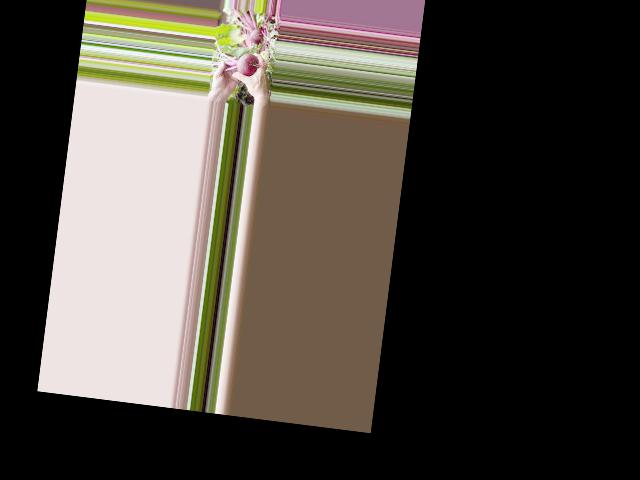beet: (210, 36, 261, 78)
